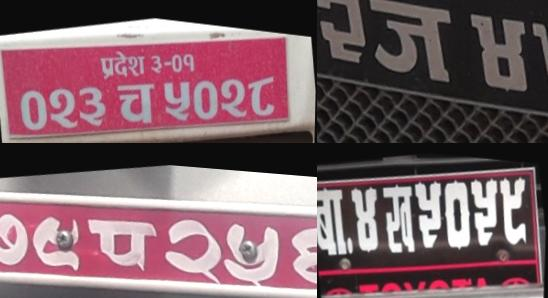0: (440, 171, 477, 250), (17, 81, 51, 136), (190, 70, 222, 122), (169, 45, 184, 71)
1: (181, 43, 198, 72)
2: (157, 191, 232, 298), (317, 0, 374, 75), (44, 78, 80, 134), (217, 66, 251, 120)
3: (75, 75, 110, 131), (150, 47, 164, 72)
4: (462, 0, 540, 99), (344, 178, 389, 260)
5: (218, 197, 291, 298), (465, 168, 506, 249), (410, 173, 451, 253), (160, 68, 195, 122)
6: (282, 204, 317, 296)
7: (524, 0, 548, 113), (0, 200, 36, 272)
8: (245, 63, 281, 118)
9: (27, 196, 92, 278), (494, 165, 536, 249)
ba: (317, 180, 358, 264)
cha: (113, 68, 160, 130)
ja: (362, 0, 464, 97)
kha: (377, 176, 423, 258)
pa: (81, 196, 171, 285)
